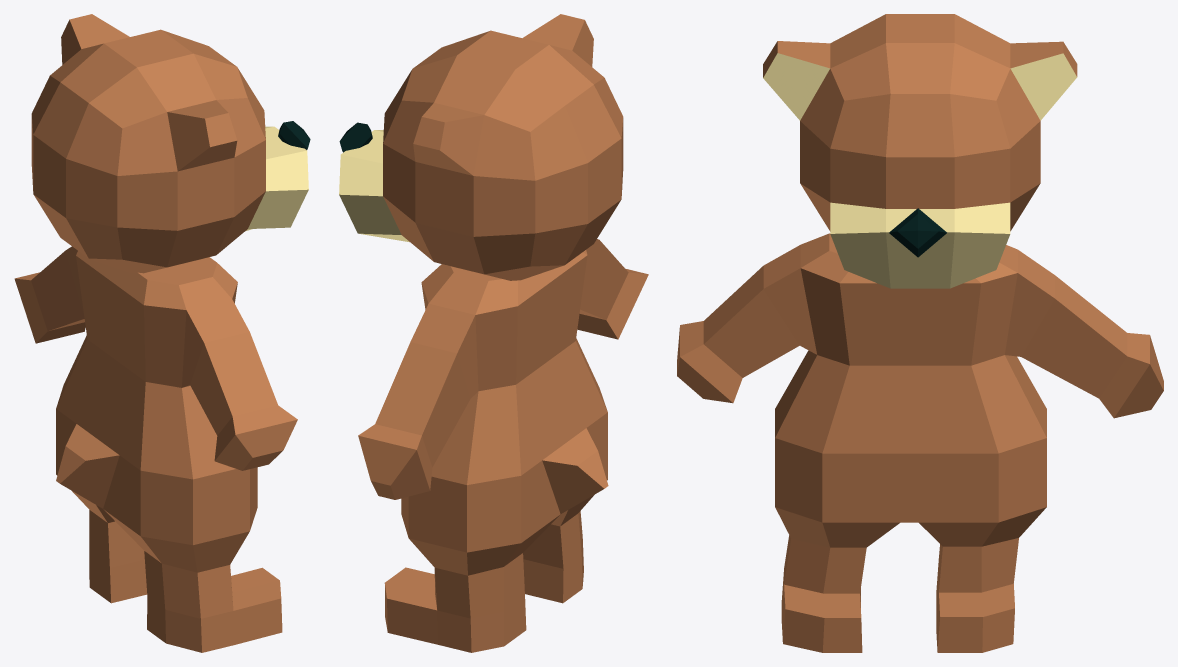
The model's file is teddybear-lightbrown.fbx.
The picture shows the model from 3 angles, left to right: view 1: azimuth 30°, elevation 25°; view 2: azimuth 150°, elevation 25°; view 3: azimuth 270°, elevation 25°; orthographic projection. The views are drawn at different scales.
Visible parts, largest first — view 1: teddy.001; view 2: teddy.001; view 3: teddy.001.
Part boxes in pixels (x1,y1,x2,y2): teddy.001: (14,14,310,652); teddy.001: (339,14,648,652); teddy.001: (677,14,1163,652).
Size of the model in its own units: 166 by 342 by 259.
